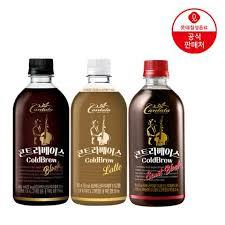contrabass_sweetblack: (128, 58, 192, 212)
